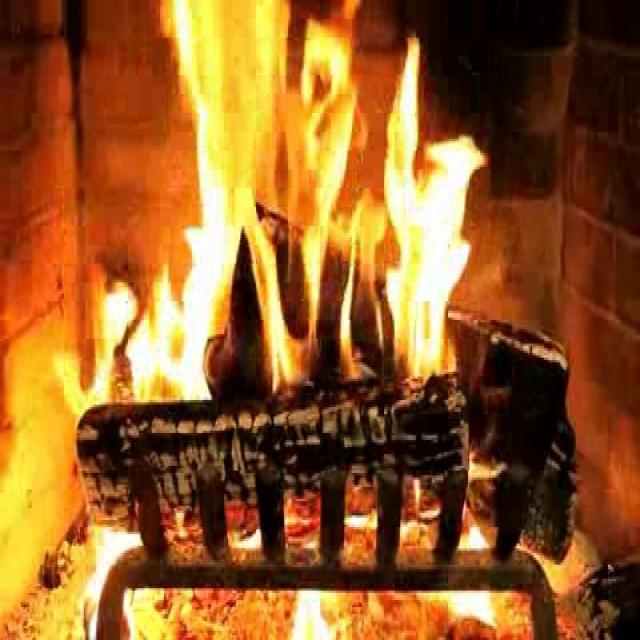fire: (144, 0, 479, 426)
